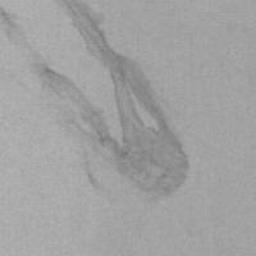Water spot: (0, 0, 189, 211)
